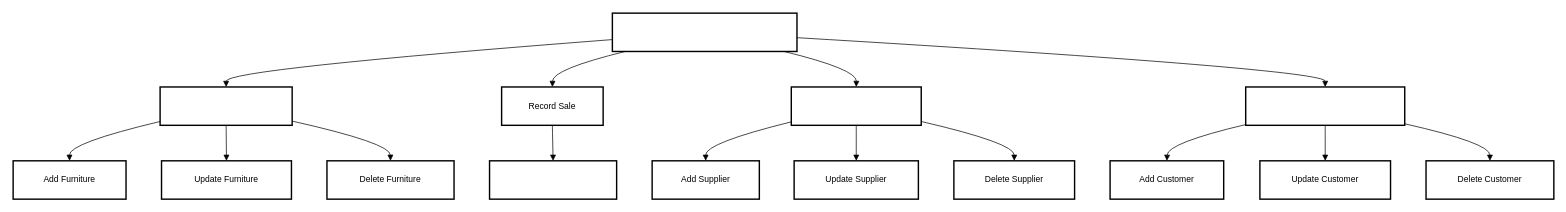
Image size: 1566x212. Some labels were removed from this diagram. The centre of each missing label's shape, as x and y in pixels:
"Customer Management" goes at pixel 1325 106.
"Furniture Management System" goes at pixel 704 32.
"Manage Inventory" goes at pixel 226 106.
"Manage Suppliers" goes at pixel 856 106.
"Process Payment" goes at pixel 552 180.
